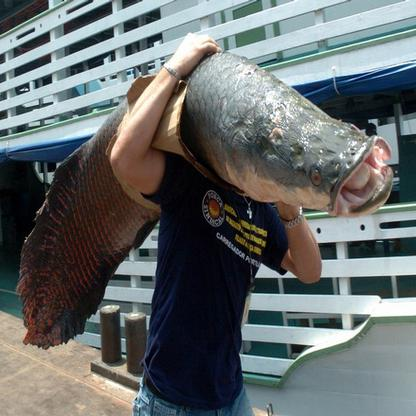fish: (18, 41, 394, 350)
